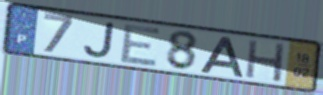7: (40, 11, 77, 55)
8: (165, 30, 200, 71)
A: (198, 35, 245, 79)
E: (118, 23, 163, 68)
H: (244, 38, 289, 84)
J: (81, 21, 117, 60)
